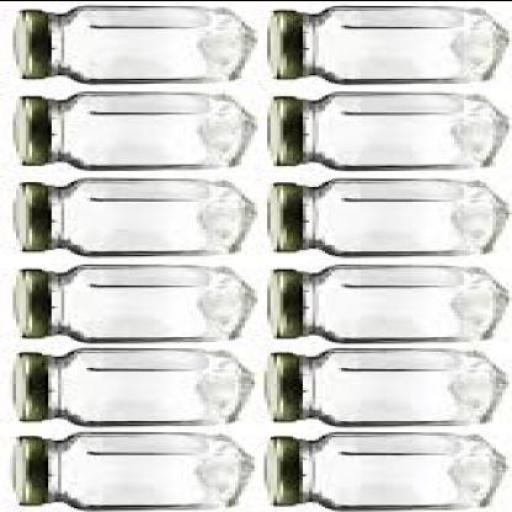glass: (41, 348, 248, 428), (296, 179, 503, 257), (48, 263, 245, 344), (299, 8, 502, 86), (48, 6, 251, 84), (48, 92, 251, 170), (41, 433, 248, 509), (49, 179, 248, 257), (303, 92, 502, 170), (303, 265, 506, 341), (296, 350, 503, 424), (300, 433, 499, 509)
metal: (3, 438, 43, 508), (12, 10, 52, 79), (260, 97, 300, 166), (263, 12, 303, 80), (6, 184, 46, 252), (6, 271, 46, 338), (260, 438, 300, 505), (260, 186, 300, 252), (261, 270, 297, 339), (13, 97, 49, 165), (261, 354, 297, 421), (10, 354, 42, 424)
